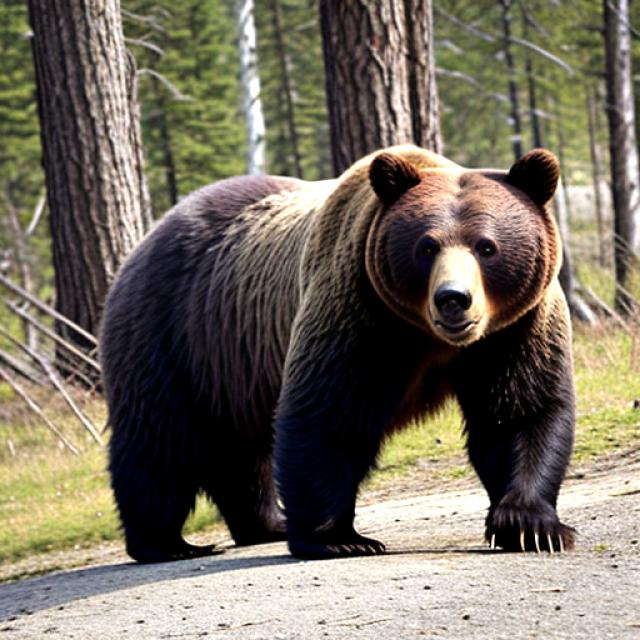bear: (353, 133, 582, 370)
